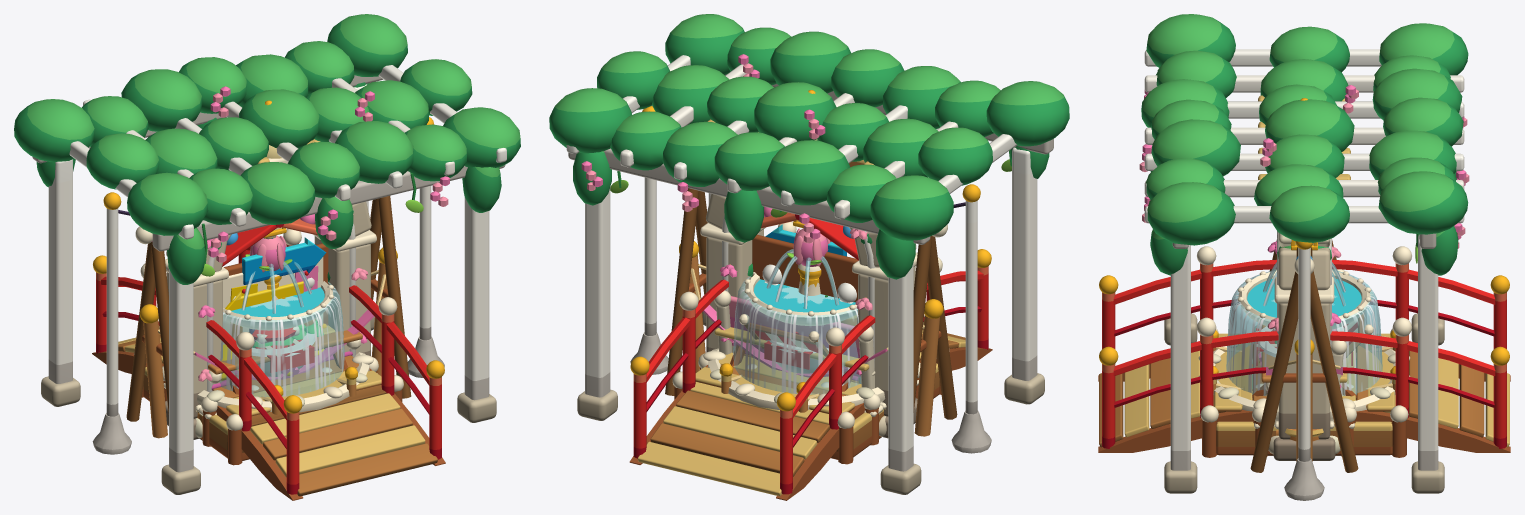
File: kingdom_decor_kit.glb
3 views of the same model, side by side, from view 1: azimuth 30°, elevation 25°; view 2: azimuth 150°, elevation 25°; view 3: azimuth 270°, elevation 25° (orthographic). The views are drawn at different scales.
Visible parts, largest first — view 1: KD_Pergola, KD_Bridge_Arch, WATER_Fountain_Fall, KD_Lamp_Garland, KD_Arch_Stone, KD_Seat_Swing, KD_Pond_Fountain, KD_Seat_Hammock, KD_Sign_Board, KD_Seat_Picnic, KD_Sign_Arrow, KD_Bed_Wood_2x2 (+5 smaller); view 2: KD_Pergola, KD_Bridge_Arch, KD_Seat_Swing, WATER_Fountain_Fall, KD_Lamp_Garland, KD_Arch_Stone, KD_Pond_Fountain, KD_Sign_Board, KD_Seat_Hammock, KD_Seat_Picnic, KD_Bed_Wood_2x2, WATER_Fountain_Bowl (+6 smaller); view 3: KD_Pergola, KD_Bridge_Arch, KD_Arch_Stone, KD_Seat_Swing, WATER_Fountain_Fall, KD_Bed_Wood_2x2, KD_Lamp_Garland, KD_Pond_Fountain, KD_Seat_Picnic, WATER_Fountain_Bowl, KD_Arch_Rose, KD_Seat_Hammock (+4 smaller).
Boxes of the visible parts, bbox=[...] form: KD_Pergola: bbox=[14, 14, 520, 494]; KD_Bridge_Arch: bbox=[92, 228, 445, 500]; WATER_Fountain_Fall: bbox=[219, 282, 344, 397]; KD_Lamp_Garland: bbox=[92, 117, 444, 454]; KD_Arch_Stone: bbox=[165, 158, 376, 439]; KD_Seat_Swing: bbox=[126, 196, 411, 421]; KD_Pond_Fountain: bbox=[195, 235, 373, 437]; KD_Seat_Hammock: bbox=[140, 247, 397, 438]; KD_Sign_Board: bbox=[222, 218, 328, 344]; KD_Seat_Picnic: bbox=[161, 325, 381, 415]; KD_Sign_Arrow: bbox=[225, 235, 326, 327]; KD_Bed_Wood_2x2: bbox=[134, 353, 403, 465]; KD_Pergola: bbox=[549, 14, 1069, 494]; KD_Bridge_Arch: bbox=[629, 221, 992, 500]; KD_Seat_Swing: bbox=[665, 188, 957, 419]; WATER_Fountain_Fall: bbox=[733, 275, 861, 394]; KD_Lamp_Garland: bbox=[630, 106, 991, 453]; KD_Arch_Stone: bbox=[700, 194, 917, 438]; KD_Pond_Fountain: bbox=[703, 228, 886, 436]; KD_Sign_Board: bbox=[752, 212, 858, 324]; KD_Seat_Hammock: bbox=[679, 241, 943, 436]; KD_Seat_Picnic: bbox=[695, 327, 921, 413]; KD_Bed_Wood_2x2: bbox=[672, 348, 949, 464]; WATER_Fountain_Bowl: bbox=[754, 279, 855, 312]; KD_Pergola: bbox=[1139, 14, 1469, 493]; KD_Bridge_Arch: bbox=[1098, 246, 1510, 452]; KD_Arch_Stone: bbox=[1273, 233, 1335, 460]; KD_Seat_Swing: bbox=[1250, 240, 1358, 472]; WATER_Fountain_Fall: bbox=[1226, 270, 1382, 396]; KD_Bed_Wood_2x2: bbox=[1200, 328, 1408, 457]; KD_Lamp_Garland: bbox=[1284, 241, 1324, 500]; KD_Pond_Fountain: bbox=[1198, 270, 1410, 454]; KD_Seat_Picnic: bbox=[1214, 325, 1394, 411]; WATER_Fountain_Bowl: bbox=[1247, 278, 1361, 317]; KD_Arch_Rose: bbox=[1267, 231, 1341, 441]; KD_Seat_Hammock: bbox=[1266, 269, 1342, 461].
Size of the model in its own units: 4.51 by 3.43 by 4.
74 materials, 3 textured.
